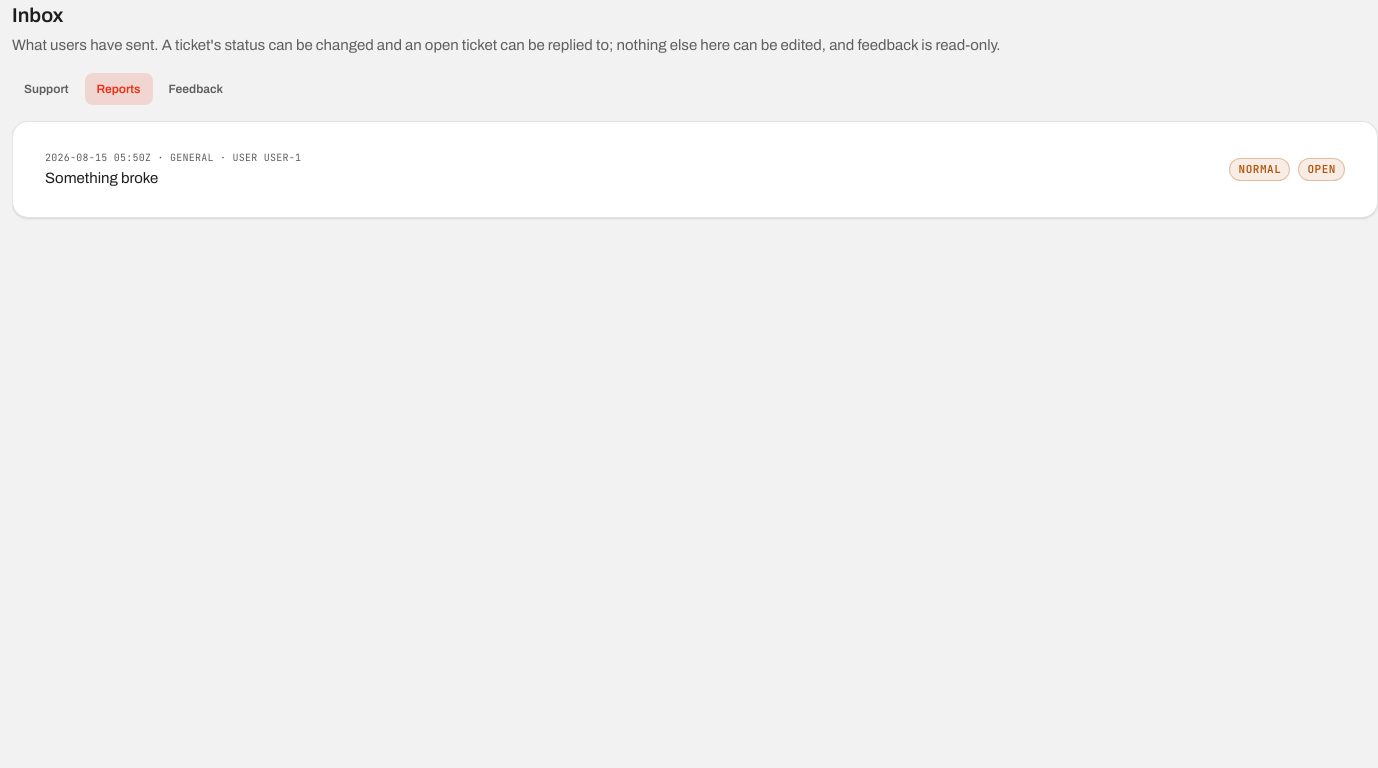
Test: AdminInboxPanel — reply › shows a safe error and keeps the draft when the send fails
Click the button "Something broke" at (98, 157), box [29, 138, 1361, 201]
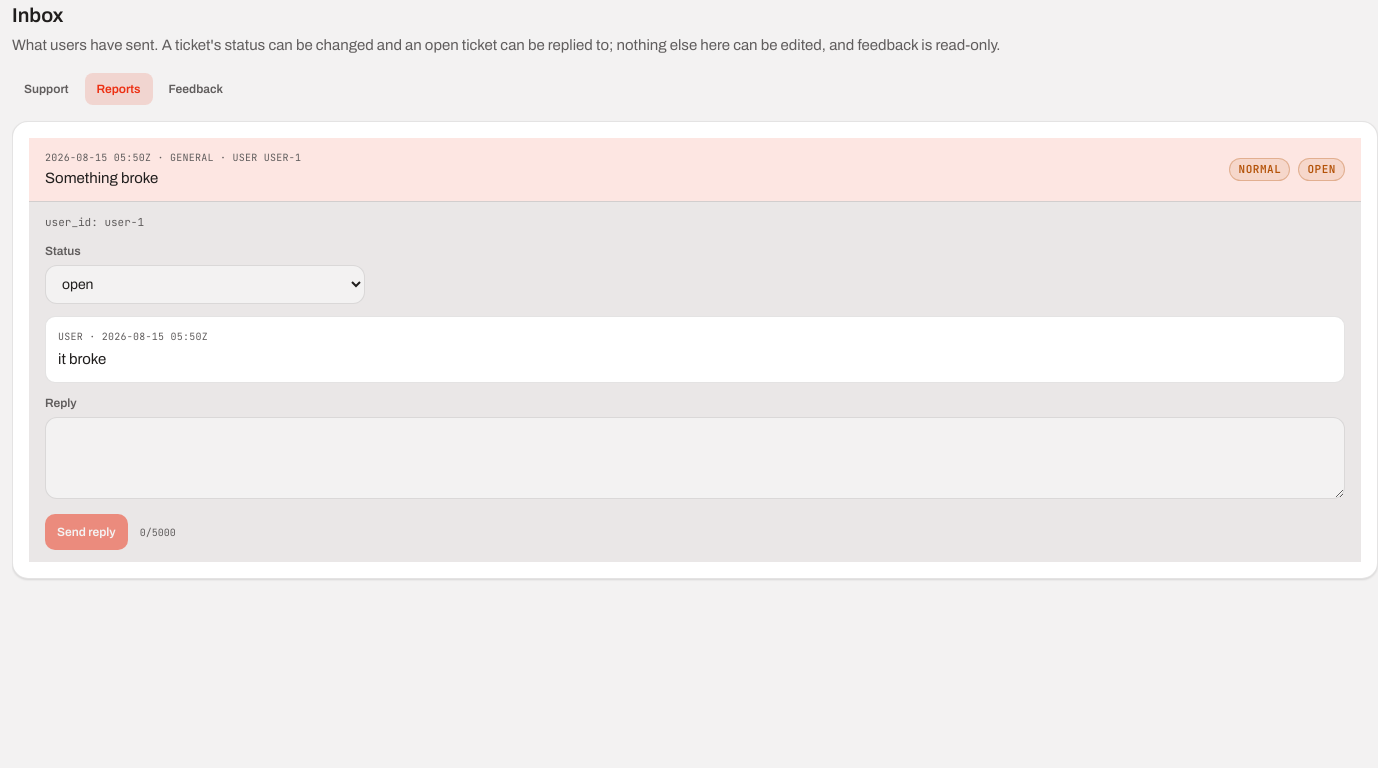
Type "keep me" into the text box at (695, 458), box [45, 417, 1345, 499]
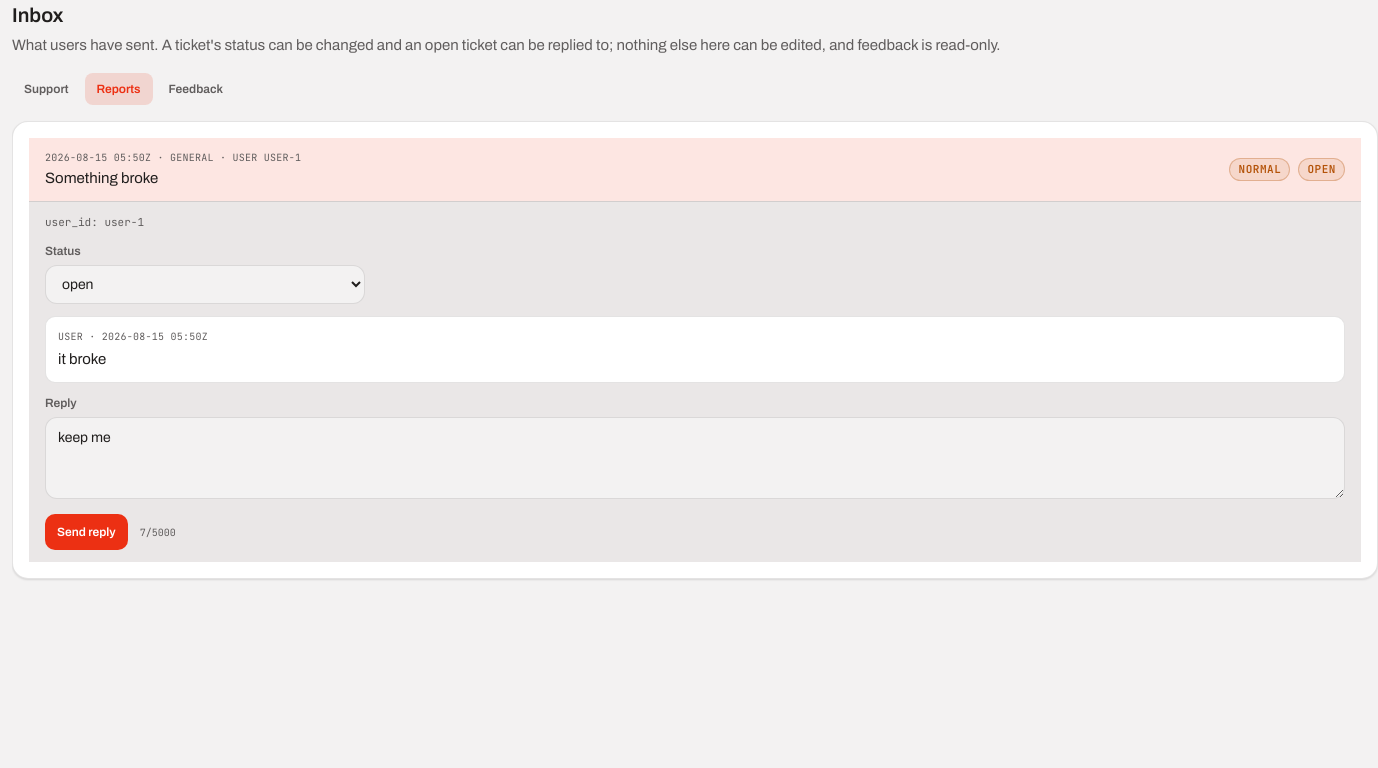
Click the button "Send reply" at (86, 532), box [45, 514, 128, 550]
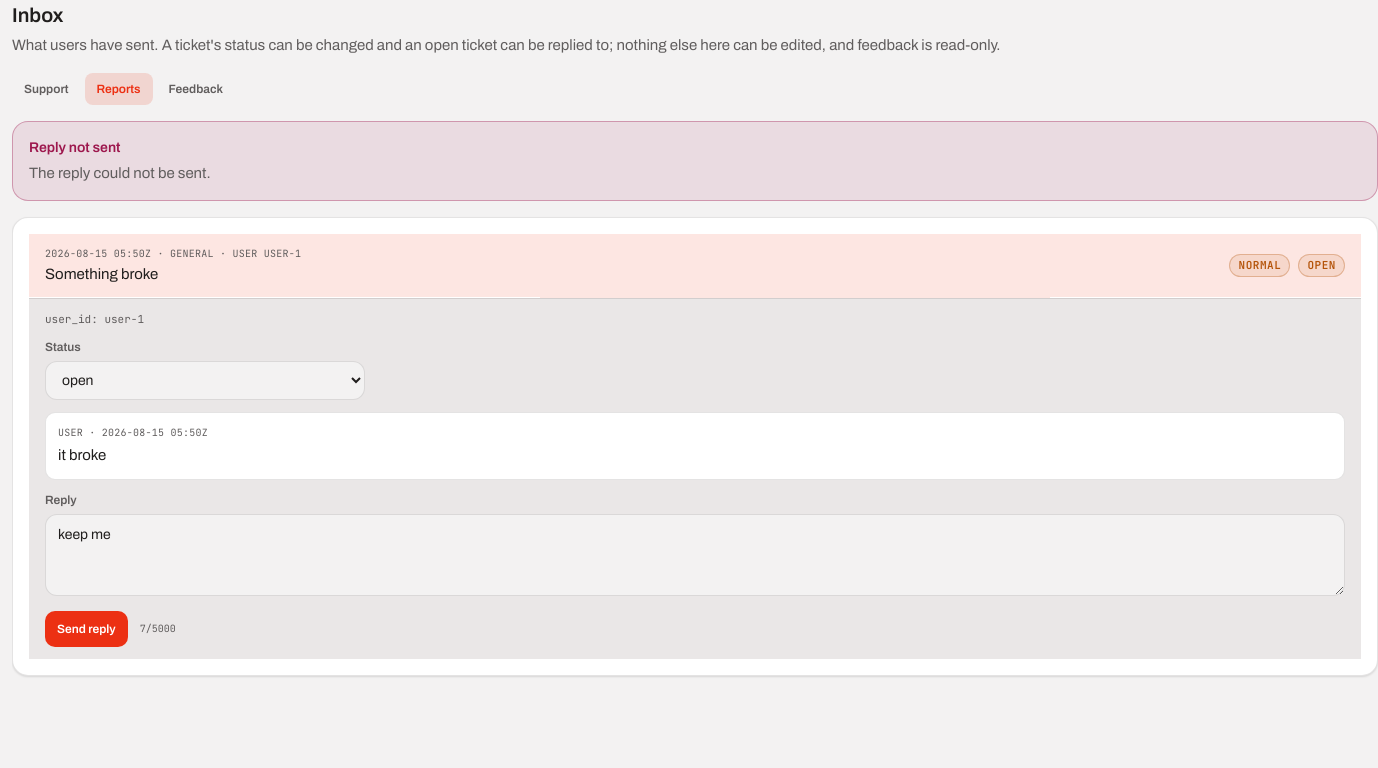
Expected: the text "The reply could not be sent." is shown, [29, 164, 211, 180]
